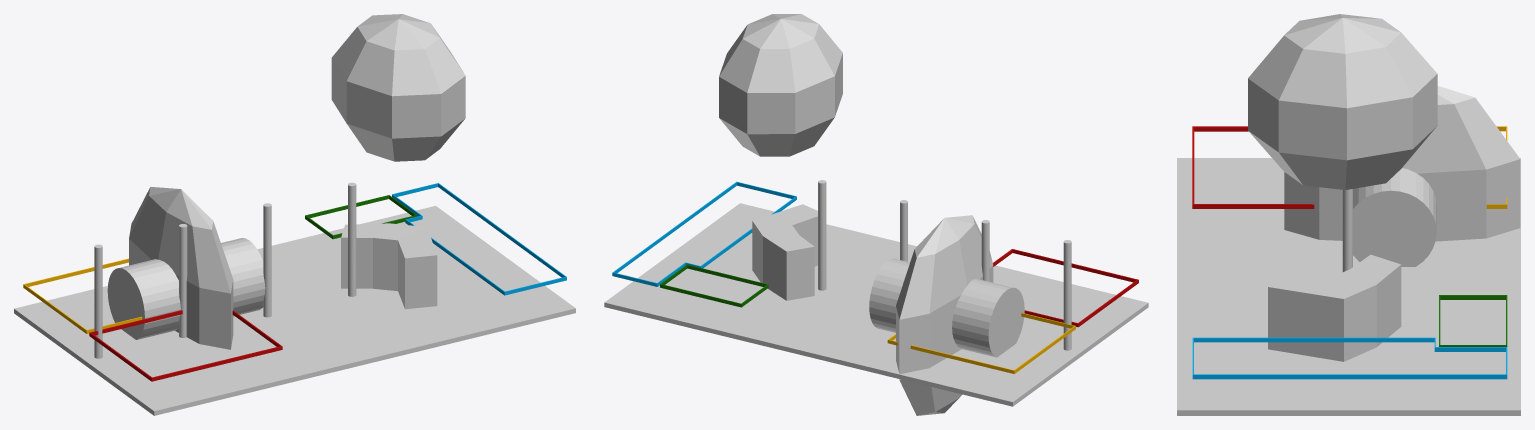
File: HoleBlackRoom.fbx
The picture shows the model from 3 angles, left to right: view 1: azimuth 30°, elevation 25°; view 2: azimuth 150°, elevation 25°; view 3: azimuth 270°, elevation 25°; orthographic projection. The views are drawn at different scales.
Visible parts, largest first — view 1: floor, Sphere.031, Sphere.030, Cylinder.004, Cube.004, SALA_05, SALA_01, coluna4, coluna5, coluna, SALA_02, coluna2 (+1 smaller); view 2: floor, Sphere.031, Sphere.030, Cylinder.004, Cube.004, SALA_05, SALA_01, SALA_02, coluna4, SALA_04, coluna, coluna2; view 3: floor, Sphere.031, Sphere.030, Cube.004, Cylinder.004, SALA_05, SALA_01, coluna4, SALA_04.
Part boxes in pixels (<box>): floor: <box>14,205,575,415</box>; Sphere.031: <box>331,14,465,161</box>; Sphere.030: <box>129,186,233,349</box>; Cylinder.004: <box>107,238,265,339</box>; Cube.004: <box>341,223,437,309</box>; SALA_05: <box>392,183,566,295</box>; SALA_01: <box>89,310,282,381</box>; coluna4: <box>348,182,356,296</box>; coluna5: <box>263,203,271,317</box>; coluna: <box>94,244,102,358</box>; SALA_02: <box>23,258,142,333</box>; coluna2: <box>179,224,187,337</box>; floor: <box>604,203,1148,406</box>; Sphere.031: <box>719,14,842,156</box>; Sphere.030: <box>896,215,993,415</box>; Cylinder.004: <box>869,258,1024,357</box>; Cube.004: <box>752,204,817,300</box>; SALA_05: <box>612,181,796,286</box>; SALA_01: <box>993,249,1138,327</box>; SALA_02: <box>887,313,1075,373</box>; coluna4: <box>818,180,826,290</box>; SALA_04: <box>660,264,768,307</box>; coluna: <box>1063,240,1071,350</box>; coluna2: <box>981,220,989,281</box>; floor: <box>1177,158,1520,415</box>; Sphere.031: <box>1248,14,1437,189</box>; Sphere.030: <box>1284,86,1520,241</box>; Cube.004: <box>1268,254,1401,361</box>; Cylinder.004: <box>1353,168,1436,266</box>; SALA_05: <box>1192,337,1507,379</box>; SALA_01: <box>1192,126,1314,208</box>; coluna4: <box>1342,189,1352,271</box>; SALA_04: <box>1439,295,1507,346</box>.
Size of the model in its own units: 1749 by 1357 by 1007.
